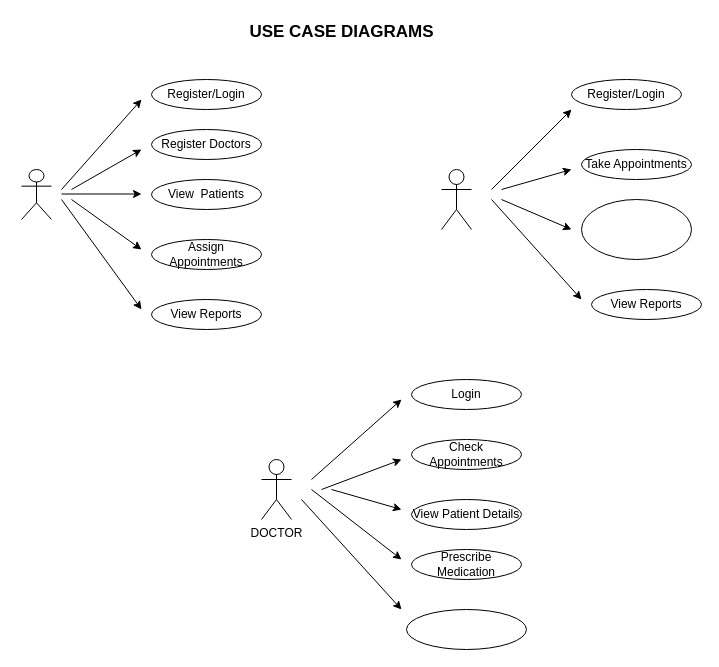
This 719x667 diagram has some shape labels left out. The box of each missing label's shape, as (x1, y1, x2, y2) in pixels:
ADMIN: (20, 168, 52, 220)
PATIENT: (440, 168, 472, 230)
Upadte Appointment Status: (406, 608, 526, 650)
View Appointment Details: (580, 198, 692, 260)
